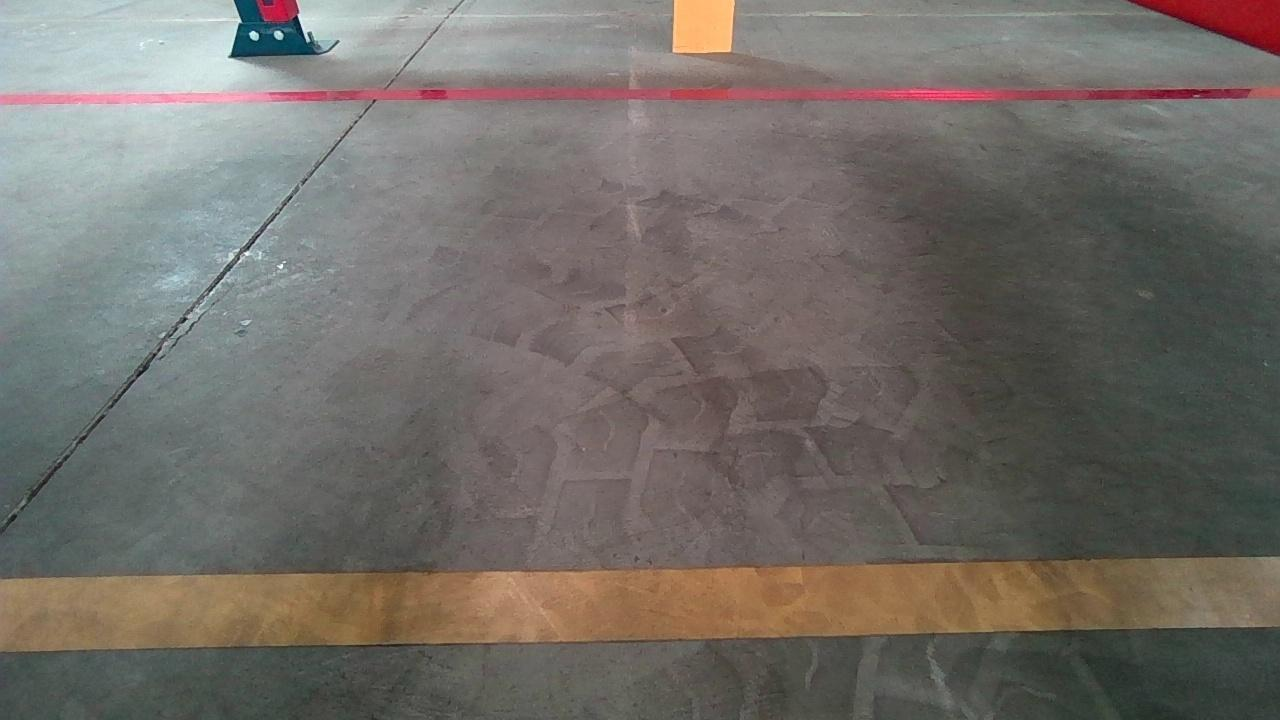red_line: (3, 83, 1273, 112)
yellow_line: (0, 552, 1275, 656)
